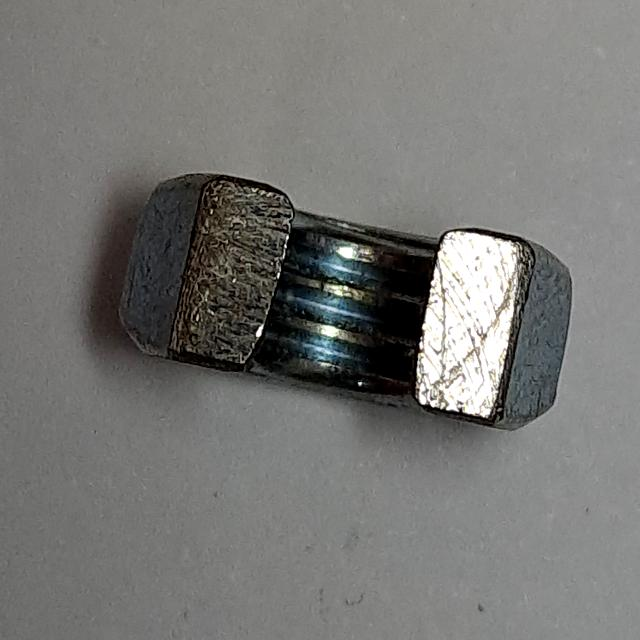Side-Fracture: (106, 156, 586, 444)
